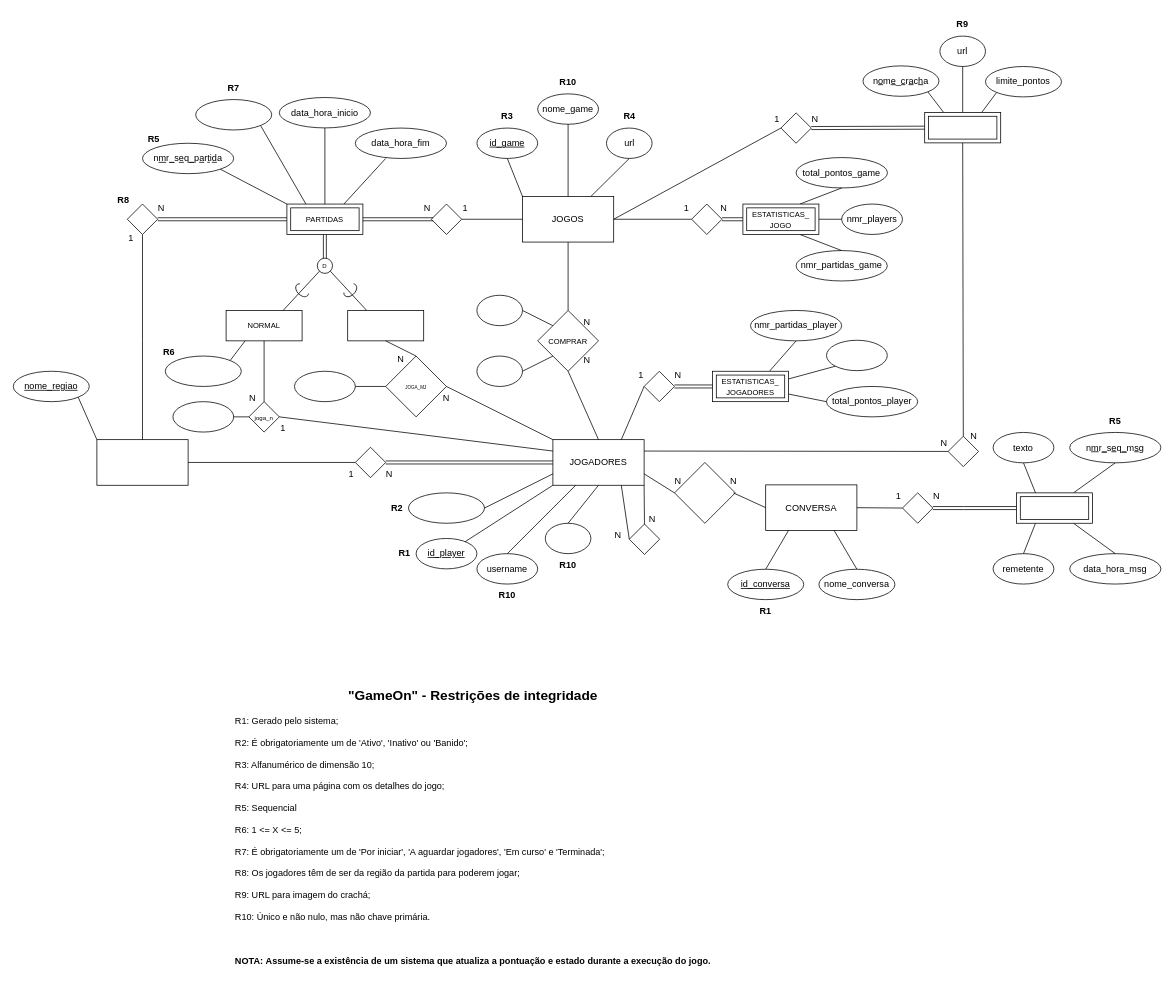
This 1174x1007 diagram has some shape labels left out. The shapes that lost their labels are listed below. From the top down, each one's box as (x1, y1, x2, y2) in pixels, then its label:
(195, 99, 272, 130): estado_partida
(924, 112, 1001, 143): CRACHAS
(431, 203, 462, 234): criar
(347, 310, 424, 341): MULTIJOGADOR
(476, 294, 522, 326): data
(165, 355, 241, 386): grau_dificuldade
(476, 355, 522, 386): preco
(826, 339, 887, 371): nmr_jogos
(294, 370, 355, 402): pontuacao_mj
(172, 401, 234, 432): pontuacao_n
(96, 439, 188, 485): REGIAO
(947, 435, 978, 467): tem
(408, 492, 484, 523): estado_player
(674, 462, 735, 523): PARTICIPAR
(1016, 492, 1092, 523): MENSAGENS
(545, 522, 591, 554): email
(629, 523, 660, 554): amigo
